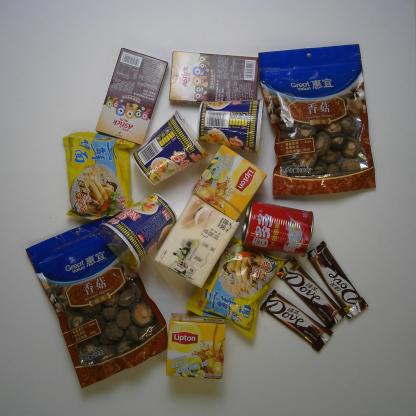Canned Food: (240, 200, 315, 258)
Chocolate: (277, 256, 347, 330), (306, 240, 370, 320), (259, 288, 334, 353)
Dessert: (95, 46, 169, 147), (167, 50, 260, 106)
Dried Food: (24, 214, 168, 392), (257, 43, 377, 199)
Instant Drink: (190, 144, 268, 221), (165, 312, 227, 381)
Instant Noodles: (185, 235, 289, 340), (60, 131, 136, 221), (98, 192, 178, 271), (132, 110, 210, 187), (196, 95, 265, 156)
Tissue: (153, 194, 241, 291)
